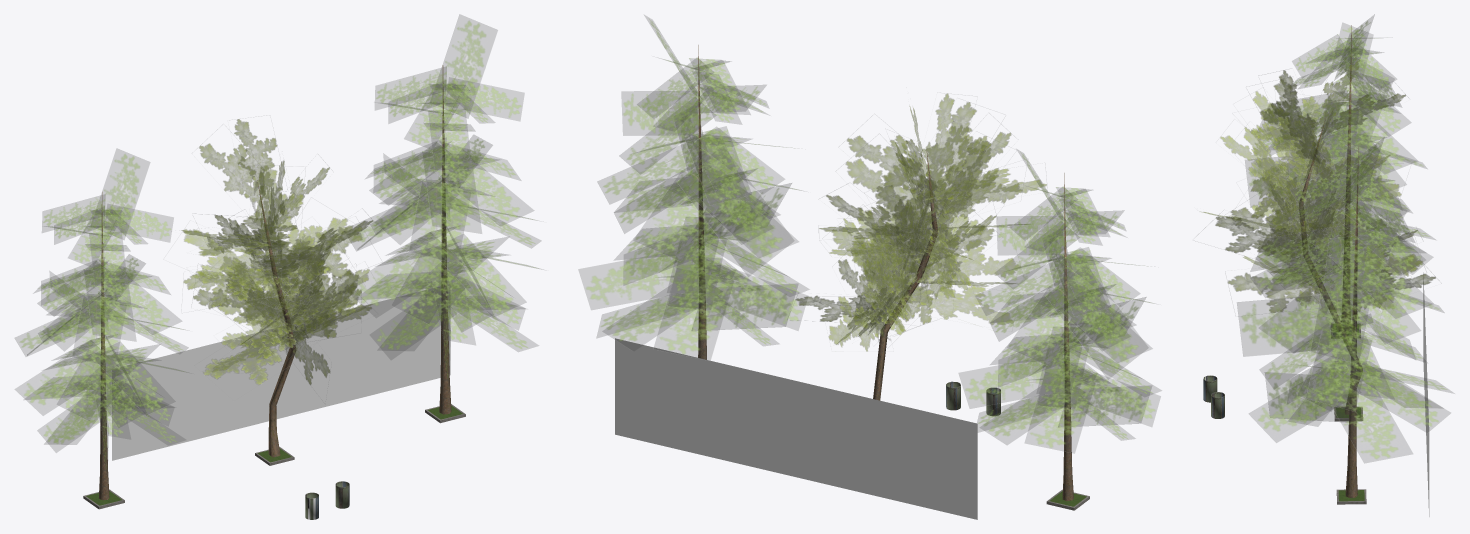
The model's file is nycity_05.gltf.
The picture shows the model from 3 angles, left to right: view 1: azimuth 30°, elevation 25°; view 2: azimuth 150°, elevation 25°; view 3: azimuth 270°, elevation 25°; orthographic projection. The views are drawn at different scales.
Parts seen in each view (by area): view 1: nycity_05; view 2: nycity_05; view 3: nycity_05.
Part boxes in pixels (left/top/right/bottom): nycity_05: left=14, top=14, right=543, bottom=519; nycity_05: left=578, top=15, right=1161, bottom=519; nycity_05: left=1198, top=14, right=1454, bottom=516.
Size of the model in its own units: 22.86 by 16.09 by 10.21.
Materials: 8 (7 with a texture image).
